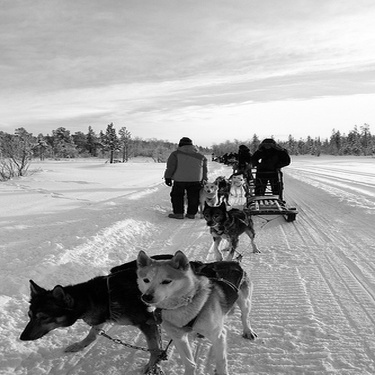dog: (11, 251, 212, 373), (126, 243, 260, 371), (191, 196, 265, 268), (190, 174, 220, 217), (224, 169, 253, 212), (207, 170, 235, 206)
